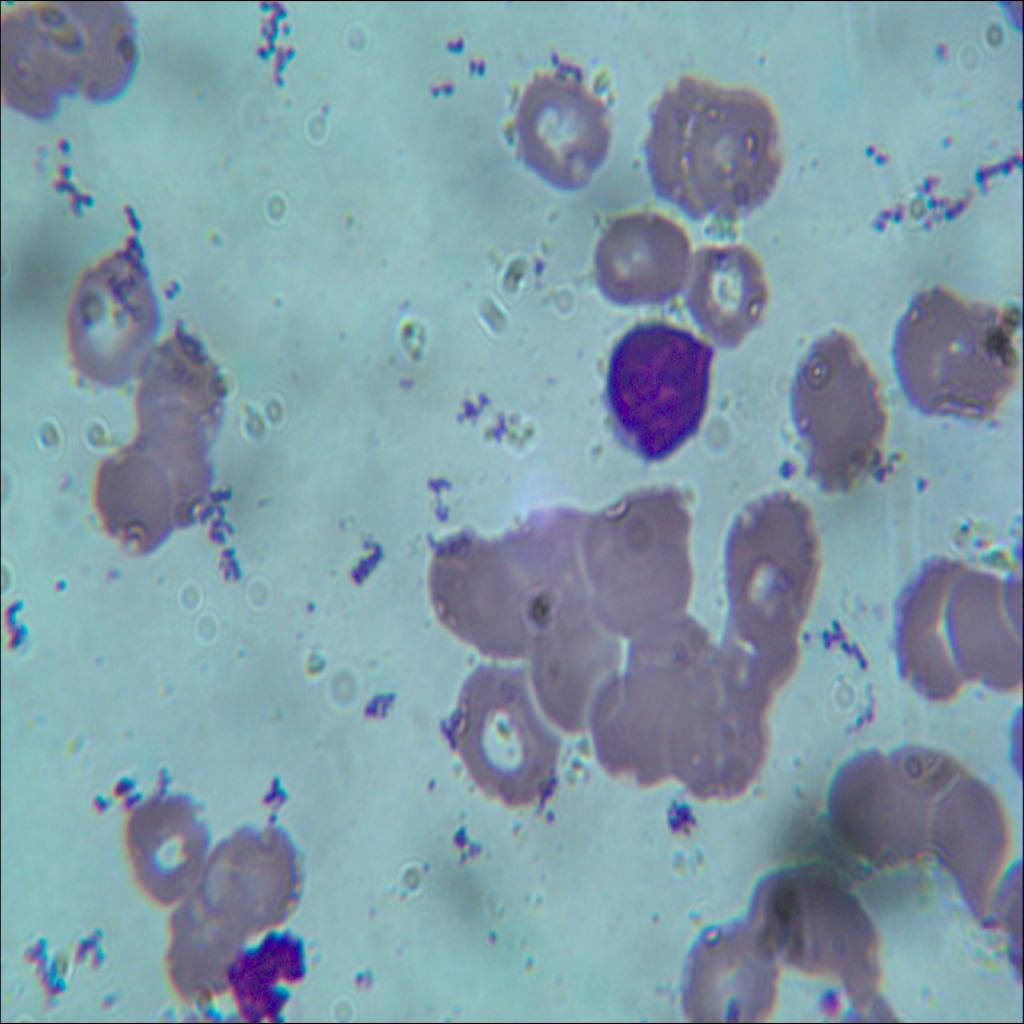Eritrosit: (432, 655, 554, 807), (788, 328, 893, 494), (583, 486, 694, 632), (668, 652, 770, 790), (432, 520, 526, 662), (920, 749, 1006, 904), (891, 544, 973, 699), (63, 245, 156, 381), (506, 498, 594, 641), (532, 604, 626, 735), (638, 71, 726, 208), (201, 817, 303, 934), (762, 854, 855, 982), (513, 71, 613, 189), (689, 84, 781, 212), (121, 335, 233, 440), (722, 497, 816, 622), (626, 604, 721, 725), (938, 561, 1024, 694), (723, 568, 803, 710), (671, 239, 769, 348), (888, 284, 974, 408), (114, 784, 204, 902), (941, 302, 1021, 432), (135, 399, 213, 532), (0, 0, 86, 120), (588, 205, 688, 308), (162, 887, 246, 1008), (596, 665, 678, 785), (91, 451, 174, 564), (686, 920, 774, 1023), (54, 0, 140, 105), (842, 748, 918, 864)
Limfoblast: (600, 319, 714, 462)
Platelet: (772, 451, 802, 491), (820, 979, 846, 1021), (50, 562, 72, 608), (924, 31, 953, 64), (719, 986, 743, 1023), (52, 131, 78, 164), (521, 254, 548, 284), (876, 142, 901, 174), (912, 464, 934, 495), (798, 624, 819, 652), (862, 138, 878, 161), (941, 125, 955, 151)
